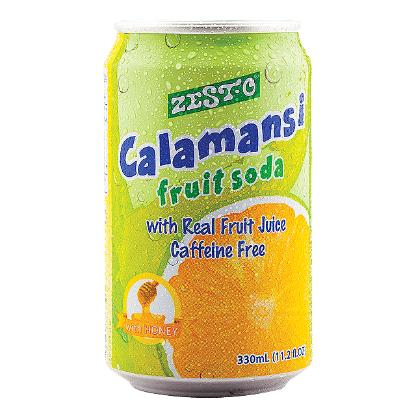Tin_Can: (99, 12, 317, 404)
